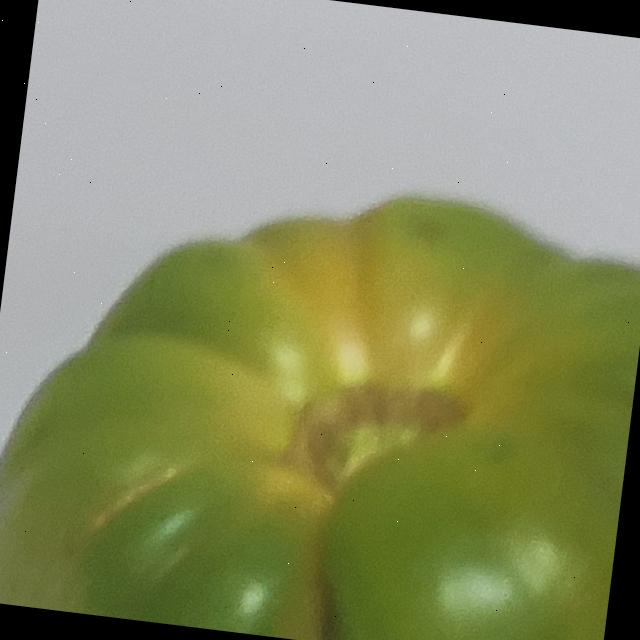tomato: (0, 56, 640, 640)
